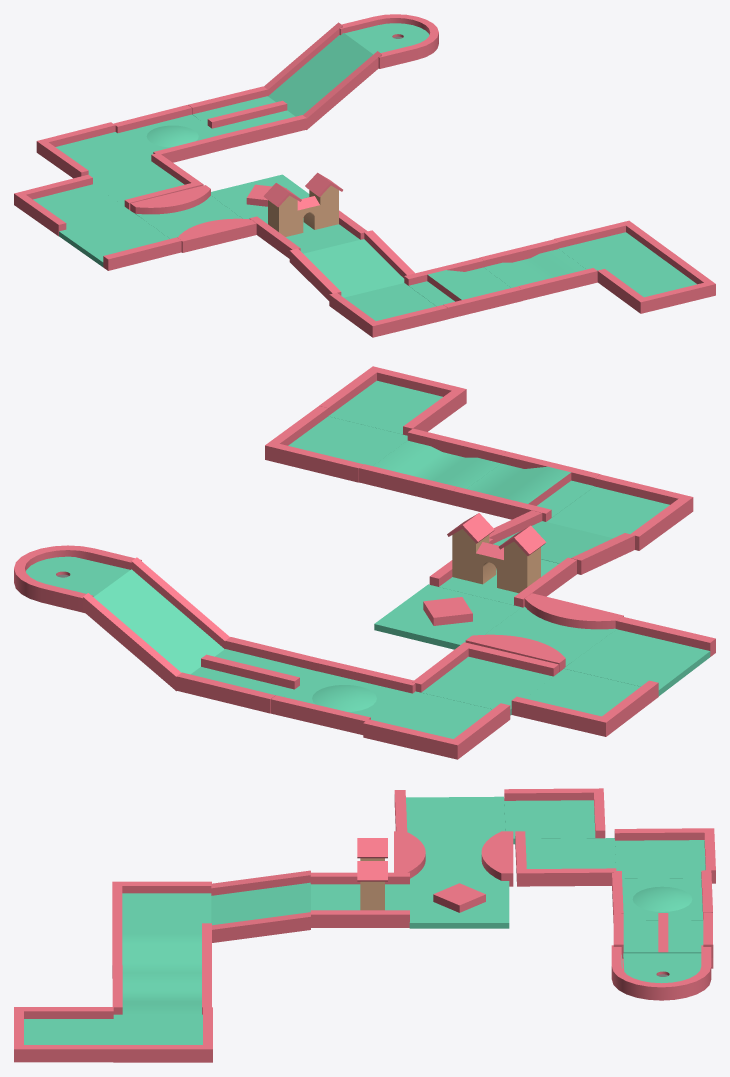
File: Course2.fbx
3 views of the same model, one above another, from view 1: azimuth 30°, elevation 25°; view 2: azimuth 150°, elevation 25°; view 3: azimuth 270°, elevation 25° (orthographic). The views are drawn at different scales.
Visible parts, largest first — view 1: holeRound; view 2: holeRound; view 3: holeRound.
Part boxes in pixels (x1,y1,x2,y2): holeRound: (14, 14, 715, 337); holeRound: (14, 366, 715, 759); holeRound: (14, 788, 715, 1062).
Bounding box in the file's own units: 591 × 86.19 × 705.
